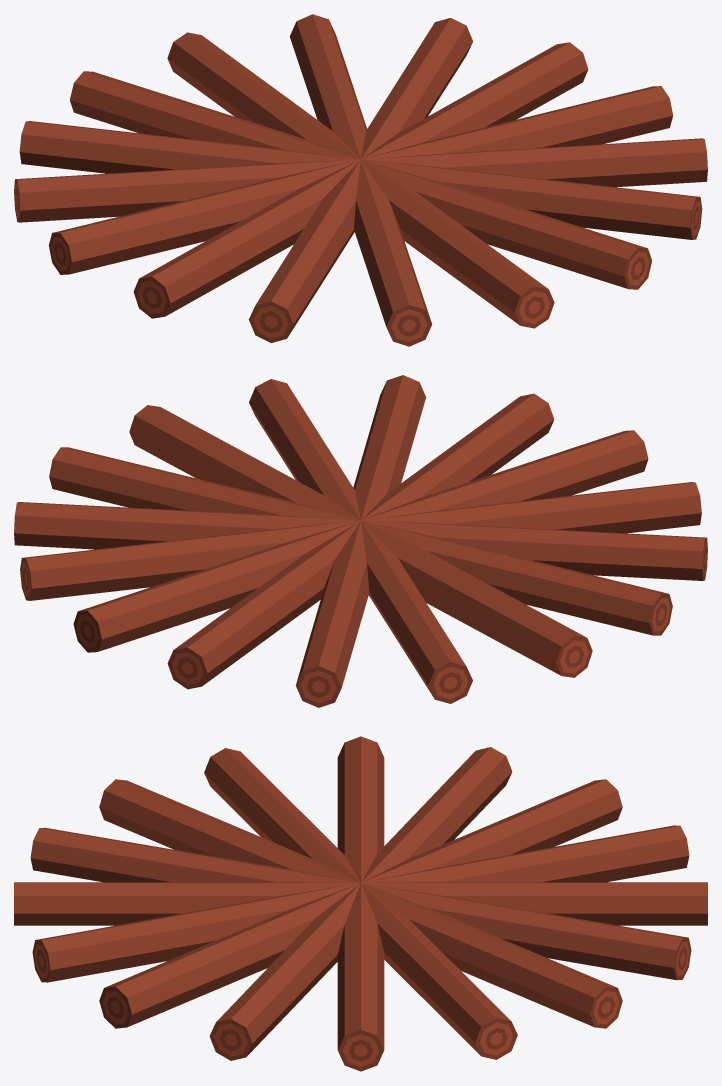
The model's file is CampFire.fbx.
The picture shows the model from 3 angles, top to bottom: view 1: azimuth 30°, elevation 25°; view 2: azimuth 150°, elevation 25°; view 3: azimuth 270°, elevation 25°; orthographic projection.
Parts seen in each view (by area): view 1: Cylinder.019; view 2: Cylinder.019; view 3: Cylinder.019.
Boxes of the visible parts, x1,y1,x2,y2 form: Cylinder.019: [14, 14, 707, 346]; Cylinder.019: [14, 375, 707, 707]; Cylinder.019: [14, 736, 707, 1071].
Bounding box in the file's own units: 641 × 42.84 × 641.
